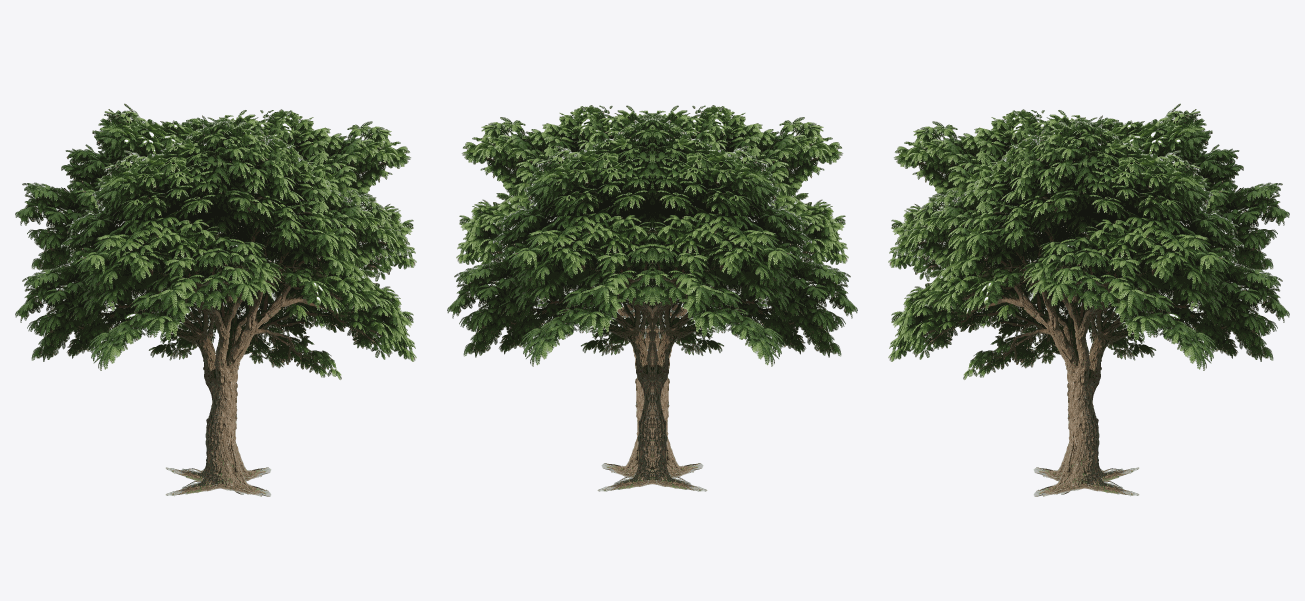
Rendered from arbre-karite.glb.
3 renders of one model, left to right at view 1: azimuth 30°, elevation 25°; view 2: azimuth 150°, elevation 25°; view 3: azimuth 270°, elevation 25°, orthographic.
Visible parts, largest first — view 1: arbre-karite; view 2: arbre-karite; view 3: arbre-karite.
Boxes of the visible parts, bbox=[...] form: arbre-karite: bbox=[15, 103, 416, 496]; arbre-karite: bbox=[447, 105, 857, 491]; arbre-karite: bbox=[888, 103, 1289, 496].
Size of the model in its own units: 10.18 by 9.05 by 8.82.
Materials: 1 (1 with a texture image).
